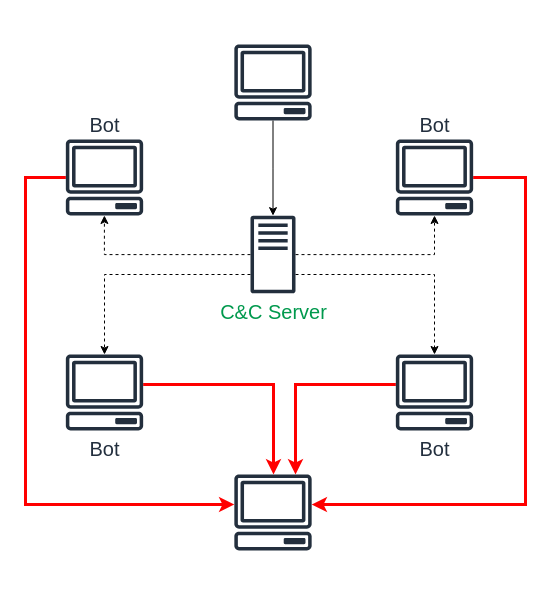
Image size: 552x598. Some labels were removed from this diagram. Each missing label, with the centre of its shape:
"Attacker" belongs at [273,82].
"Victim" belongs at [273,512].
